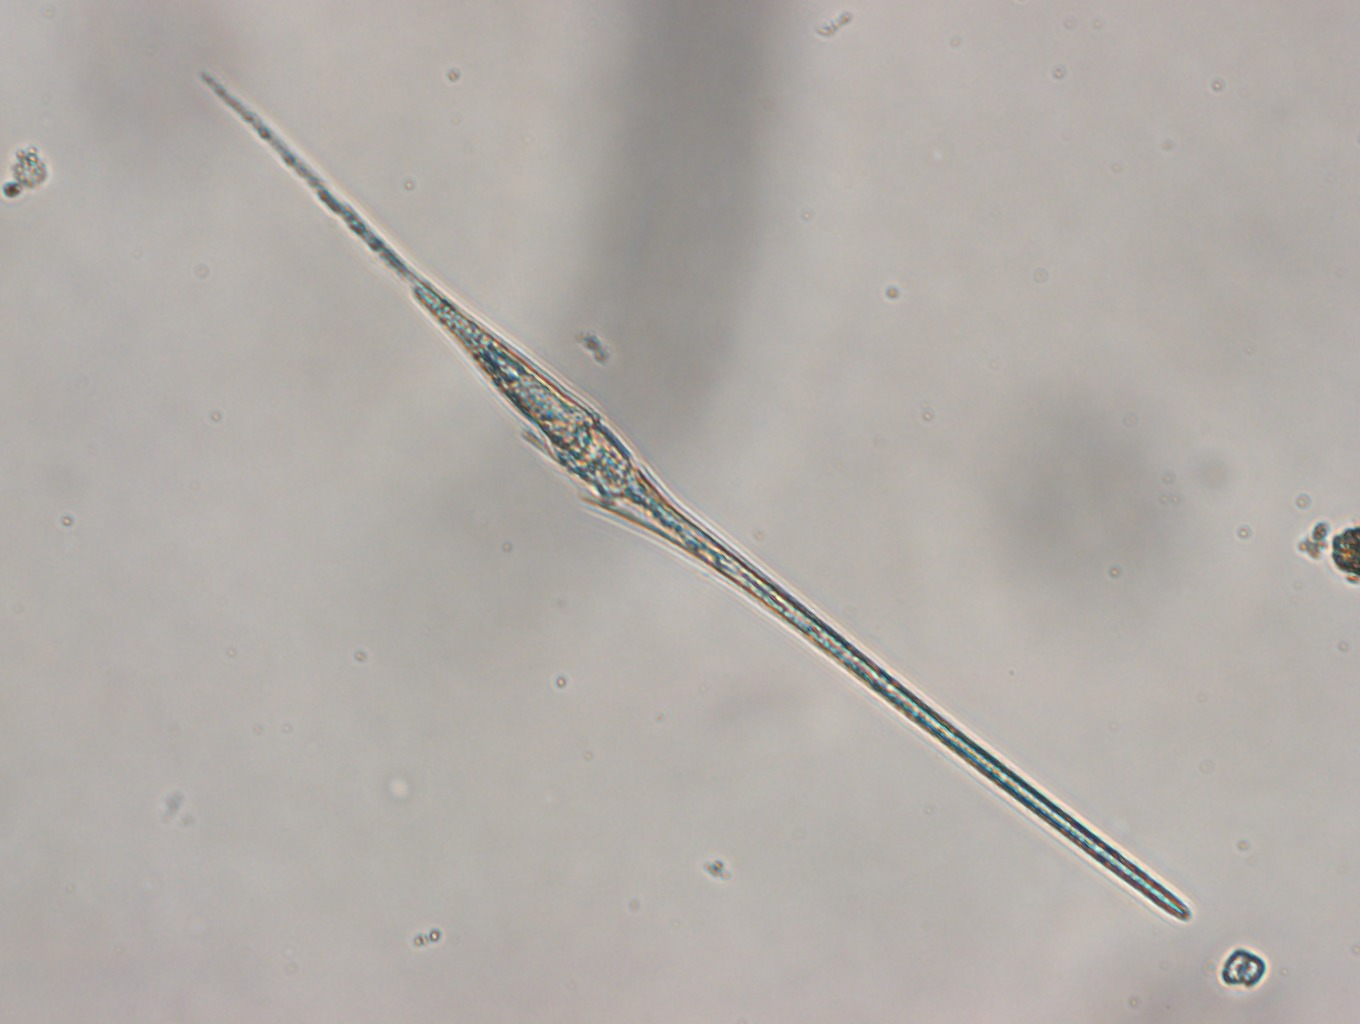ceratium fusus: (410, 278, 1199, 927)
